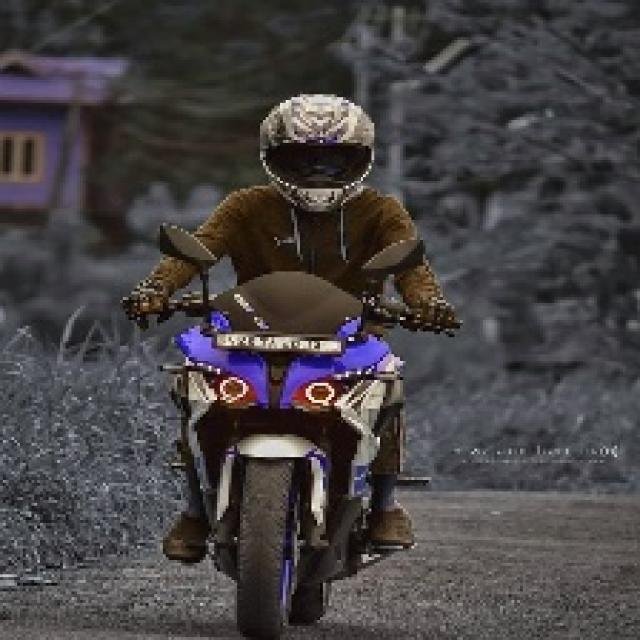bike: (182, 284, 422, 632)
